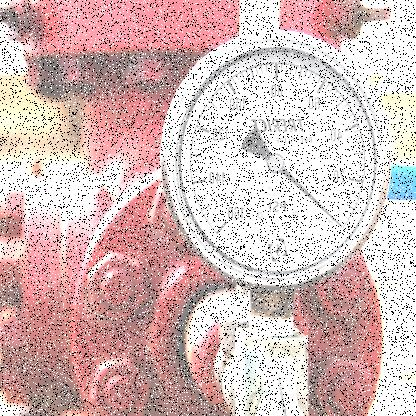needle: (278, 165, 343, 228)
